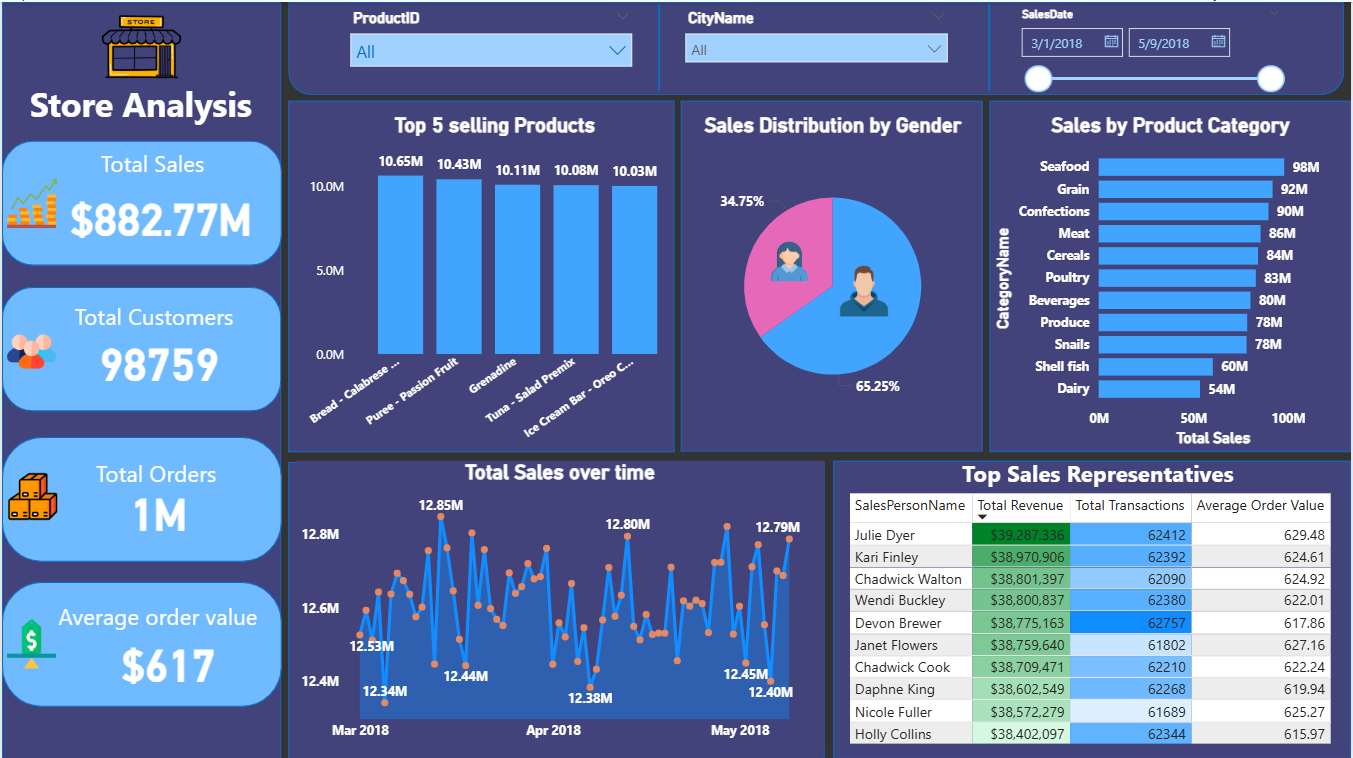

The page's visual inventory and layout, read from the dashboard file:
{"tool":"powerbi","page":{"name":"Sales Analysis","canvas":[1280,720],"ordinal":0},"visuals":[{"type":"shape","box":[644.4,93.1,286.2,333.1],"z":0},{"type":"shape","box":[0,0,265,718.3],"z":1000},{"type":"card","title":"Total Sales","fields":{"Values":["Sum(Sales.Revenue)"]},"box":[29,151.6,245,103.3],"z":2000,"group":"g1"},{"type":"shape","box":[788.6,435.7,491.4,282.9],"z":2000},{"type":"shape","box":[271.7,0,1001.7,88.3],"z":3000},{"type":"card","title":"Total Customers","fields":{"Values":["Sales.No.ofCustomers"]},"box":[61.4,300.2,175.7,80],"z":3000,"group":"g2"},{"type":"shape","box":[271.7,93.3,366.7,333.3],"z":4000},{"type":"card","title":"Total orders","fields":{"Values":["Sales.Total Transactions"]},"box":[56,448,186,69],"z":4000,"group":"g3"},{"type":"shape","box":[271,436,509,284],"z":5000},{"type":"card","title":"Average order value","fields":{"Values":["Sales.Average Order Value"]},"box":[84.6,565,147.1,120],"z":5000,"group":"g4"},{"type":"shape","box":[936.7,93.3,343.3,333.3],"z":6000},{"type":"lineChart","title":"Total Sales over time","fields":{"Category":["Sales.SalesDate"],"Y":["Sum(Sales.Revenue)"]},"box":[278.6,435.7,501.4,274.3],"z":7000},{"type":"clusteredBarChart","title":"Sales by Product Category","fields":{"Category":["categories.CategoryName"],"Y":["Sum(Sales.Revenue)"]},"box":[936.7,105,343.3,321.7],"z":8000},{"type":"textbox","box":[89.7,133.3,130,46.7],"z":8000,"group":"g1"},{"type":"clusteredColumnChart","title":"Top 5 selling Products","fields":{"Category":["products.ProductName"],"Y":["Sum(Sales.Revenue)"]},"box":[285,105,323.3,321.7],"z":9000},{"type":"image","box":[75,0,115,85],"z":10000},{"type":"textbox","box":[63.2,278.6,192.9,52.9],"z":10001,"group":"g2"},{"type":"textbox","box":[85,427,154,41],"z":10003,"group":"g3"},{"type":"textbox","box":[49,563,229,62],"z":10502,"group":"g4"},{"type":"textbox","box":[21.7,70,231.7,70],"z":11000},{"type":"slicer","fields":{"Values":["Sales.ProductID"]},"box":[319.6,1.3,287.5,86.9],"z":12000},{"type":"shape","box":[0,131.5,265.4,118.5],"z":13000},{"type":"group","id":"g1","title":"Group 1","box":[29,133.3,245,121.7],"z":14000},{"type":"shape","box":[0,270,265,118],"z":15000},{"type":"shape","box":[0,412.3,265.4,118.5],"z":16000},{"type":"shape","box":[0,550,265.4,118.5],"z":17000},{"type":"group","id":"g2","title":"Group 2","box":[61.4,278.6,194.3,101.4],"z":18000},{"type":"group","id":"g3","title":"Group 3","box":[56,427,186,90],"z":19000},{"type":"group","id":"g4","title":"Group 4","box":[49,563,229,122],"z":20000},{"type":"tableEx","fields":{"Values":["Sales.SalesPersonName","Sales.Total Revenue","Sales.Total Transactions","Sales.Average Order Value"]},"box":[798.6,461.4,472.9,258.6],"z":21000},{"type":"textbox","box":[905.7,427.1,302.9,47.1],"z":22000},{"type":"slicer","fields":{"Values":["cities.CityName"]},"box":[637.5,1.7,269.2,86.7],"z":23000},{"type":"slicer","fields":{"Values":["Sales.SalesDate"]},"box":[954.3,0,270,88.6],"z":24000},{"type":"shape","box":[485.4,0,276.8,84.3],"z":25000},{"type":"shape","box":[798.4,0,276.8,84.3],"z":26000},{"type":"image","box":[1,441,56,56],"z":27000},{"type":"image","box":[0,162,57,57],"z":28000},{"type":"image","box":[0,303,56,56],"z":29000},{"type":"image","box":[0,581,56,56],"z":30000},{"type":"pieChart","title":"Sales Distribution by Gender","fields":{"Category":["employees.Gender"],"Y":["Sales.Total Revenue"]},"box":[650,105.6,276.7,306.7],"z":31000},{"type":"image","box":[787.8,245.6,60,57.8],"z":32000},{"type":"image","box":[722.2,220,50,51.1],"z":33000}]}

Visuals, with their boxes in screenshot pixels (x1, y1, x2, y2), scaled from the page's 1280x720 canvas onto the 1353x758 screenshot:
shape: {"left": 681, "top": 98, "right": 984, "bottom": 449}
shape: {"left": 0, "top": 0, "right": 280, "bottom": 756}
"Total Sales" card: {"left": 31, "top": 160, "right": 290, "bottom": 268}
shape: {"left": 834, "top": 459, "right": 1352, "bottom": 757}
shape: {"left": 287, "top": 0, "right": 1346, "bottom": 93}
"Total Customers" card: {"left": 65, "top": 316, "right": 251, "bottom": 400}
shape: {"left": 287, "top": 98, "right": 675, "bottom": 449}
"Total orders" card: {"left": 59, "top": 472, "right": 256, "bottom": 544}
shape: {"left": 286, "top": 459, "right": 824, "bottom": 757}
"Average order value" card: {"left": 89, "top": 595, "right": 245, "bottom": 721}
shape: {"left": 990, "top": 98, "right": 1352, "bottom": 449}
"Total Sales over time" lineChart: {"left": 294, "top": 459, "right": 824, "bottom": 747}
"Sales by Product Category" clusteredBarChart: {"left": 990, "top": 111, "right": 1352, "bottom": 449}
textbox: {"left": 95, "top": 140, "right": 232, "bottom": 190}
"Top 5 selling Products" clusteredColumnChart: {"left": 301, "top": 111, "right": 643, "bottom": 449}
image: {"left": 79, "top": 0, "right": 201, "bottom": 89}
textbox: {"left": 67, "top": 293, "right": 271, "bottom": 349}
textbox: {"left": 90, "top": 450, "right": 253, "bottom": 493}
textbox: {"left": 52, "top": 593, "right": 294, "bottom": 658}
textbox: {"left": 23, "top": 74, "right": 268, "bottom": 147}
slicer - Sales.ProductID: {"left": 338, "top": 1, "right": 642, "bottom": 93}
shape: {"left": 0, "top": 138, "right": 281, "bottom": 263}
"Group 1" group: {"left": 31, "top": 140, "right": 290, "bottom": 268}
shape: {"left": 0, "top": 284, "right": 280, "bottom": 408}
shape: {"left": 0, "top": 434, "right": 281, "bottom": 559}
shape: {"left": 0, "top": 579, "right": 281, "bottom": 704}
"Group 2" group: {"left": 65, "top": 293, "right": 270, "bottom": 400}
"Group 3" group: {"left": 59, "top": 450, "right": 256, "bottom": 544}
"Group 4" group: {"left": 52, "top": 593, "right": 294, "bottom": 721}
tableEx - Sales.SalesPersonName x Sales.Total Revenue: {"left": 844, "top": 486, "right": 1344, "bottom": 757}
textbox: {"left": 957, "top": 450, "right": 1278, "bottom": 499}
slicer - cities.CityName: {"left": 674, "top": 2, "right": 958, "bottom": 93}
slicer - Sales.SalesDate: {"left": 1009, "top": 0, "right": 1294, "bottom": 93}
shape: {"left": 513, "top": 0, "right": 806, "bottom": 89}
shape: {"left": 844, "top": 0, "right": 1137, "bottom": 89}
image: {"left": 1, "top": 464, "right": 60, "bottom": 523}
image: {"left": 0, "top": 171, "right": 60, "bottom": 231}
image: {"left": 0, "top": 319, "right": 59, "bottom": 378}
image: {"left": 0, "top": 612, "right": 59, "bottom": 671}
"Sales Distribution by Gender" pieChart: {"left": 687, "top": 111, "right": 980, "bottom": 434}
image: {"left": 833, "top": 259, "right": 896, "bottom": 319}
image: {"left": 763, "top": 232, "right": 816, "bottom": 285}
